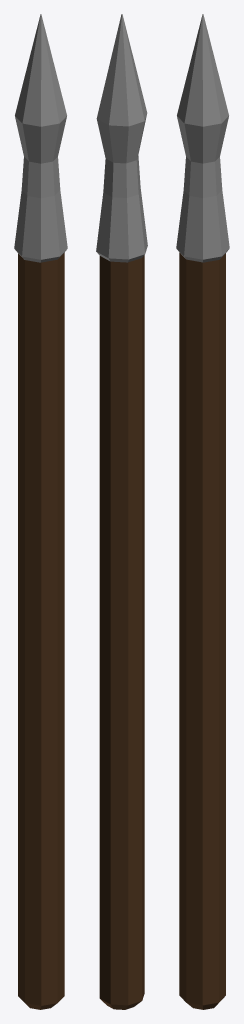
The model's file is LowPoly_Spear.fbx.
3 views of the same model, side by side, from view 1: azimuth 90°, elevation 25°; view 2: azimuth 150°, elevation 25°; view 3: azimuth 270°, elevation 25° (orthographic).
Visible parts, largest first — view 1: Stick, Head; view 2: Stick, Head; view 3: Stick, Head.
Boxes of the visible parts, x1=… form: Stick: x1=18, y1=253, x2=64, y2=1009; Head: x1=14, y1=14, x2=67, y2=262; Stick: x1=99, y1=255, x2=144, y2=1009; Head: x1=96, y1=14, x2=147, y2=262; Stick: x1=179, y1=252, x2=225, y2=1009; Head: x1=176, y1=14, x2=229, y2=262.
Size of the model in its own units: 10.38 by 211 by 10.38.
